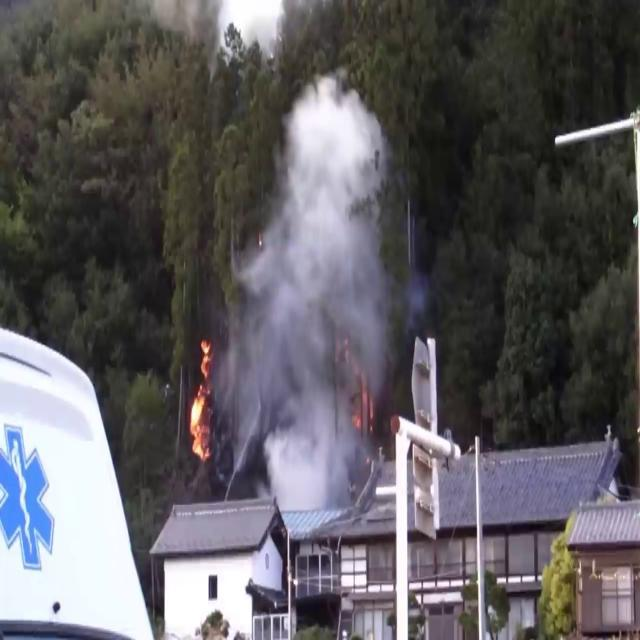Fire: (186, 333, 218, 463)
Smoke: (227, 49, 396, 516)
